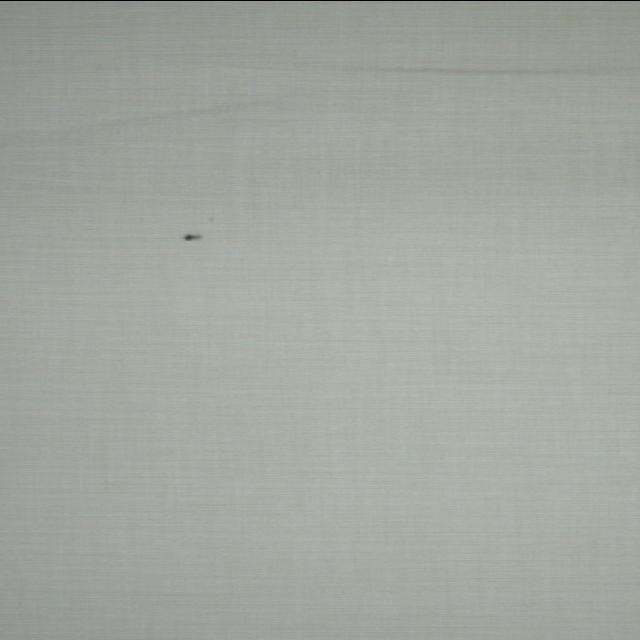dirty: (182, 232, 202, 240)
